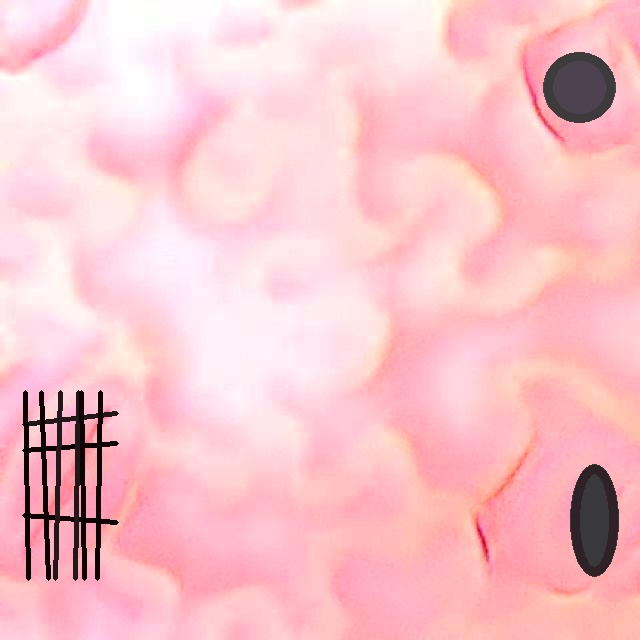close: (544, 52, 615, 122)
open: (23, 390, 118, 579), (570, 465, 618, 576)
